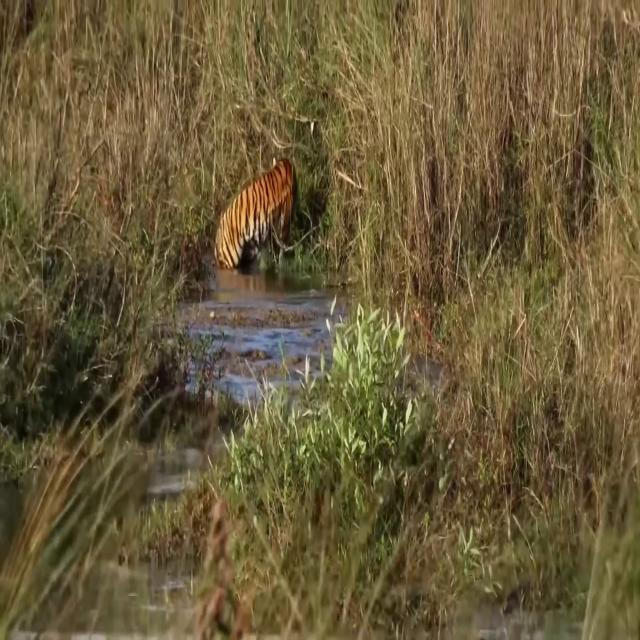tiger: (214, 156, 296, 272)
